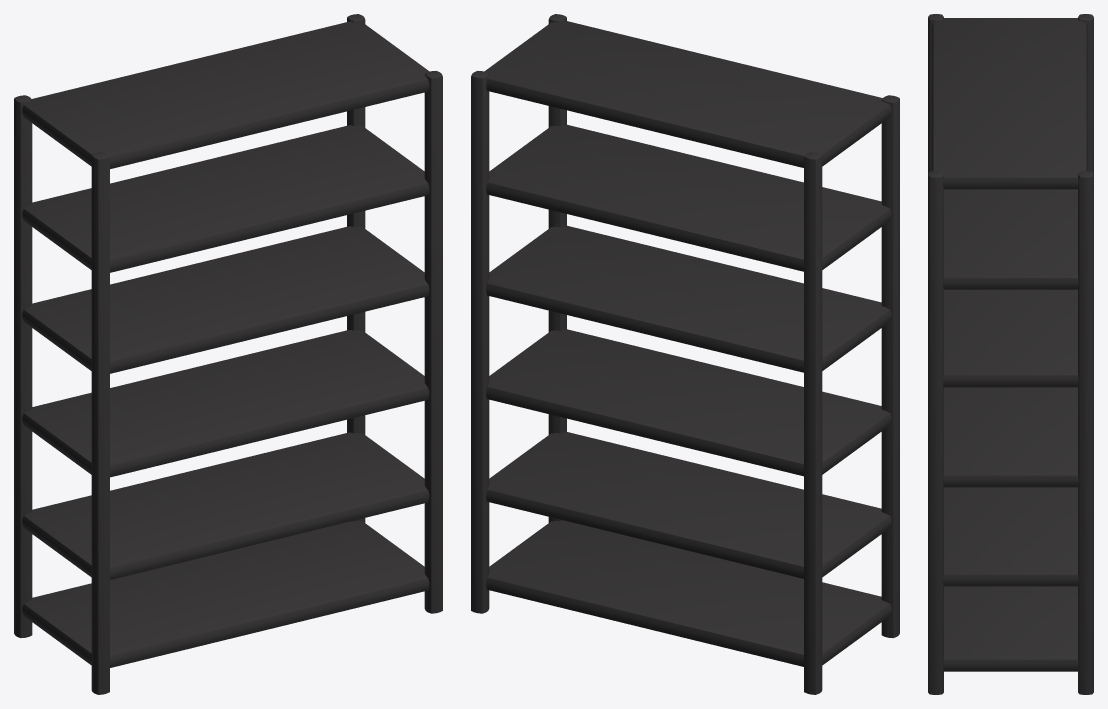
Rendered from LC_3183_shelf_G_LOD2.FBX.
3 renders of one model, left to right at view 1: azimuth 30°, elevation 25°; view 2: azimuth 150°, elevation 25°; view 3: azimuth 270°, elevation 25°, orthographic. The views are drawn at different scales.
Visible parts, largest first — view 1: LC_3183_shelf_G_LOD2; view 2: LC_3183_shelf_G_LOD2; view 3: LC_3183_shelf_G_LOD2.
Part boxes in pixels (x1=…): LC_3183_shelf_G_LOD2: x1=14, y1=14, x2=442, y2=694; LC_3183_shelf_G_LOD2: x1=471, y1=14, x2=899, y2=694; LC_3183_shelf_G_LOD2: x1=928, y1=14, x2=1093, y2=694.
Bounding box in the file's own units: 122 × 180 × 52.24.
1 material, 1 textured.
